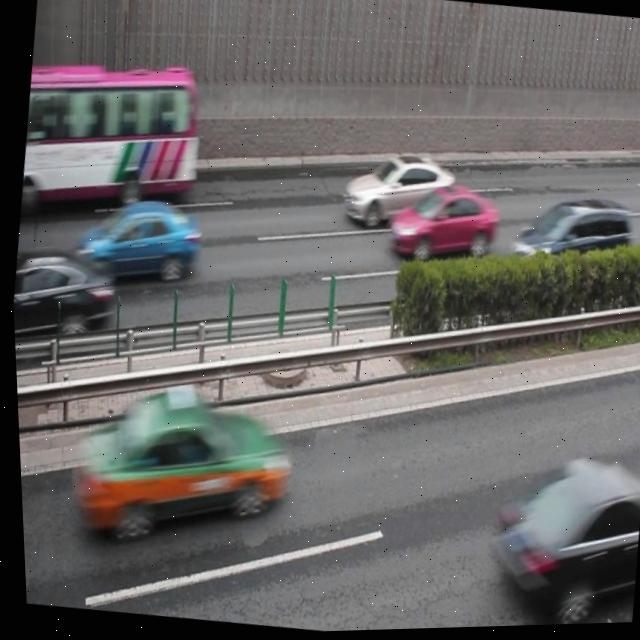car: (71, 374, 291, 555), (476, 446, 640, 629), (68, 192, 201, 293), (8, 241, 118, 345), (506, 191, 632, 281), (338, 148, 457, 237), (385, 179, 498, 268)
van: (15, 50, 206, 214)
